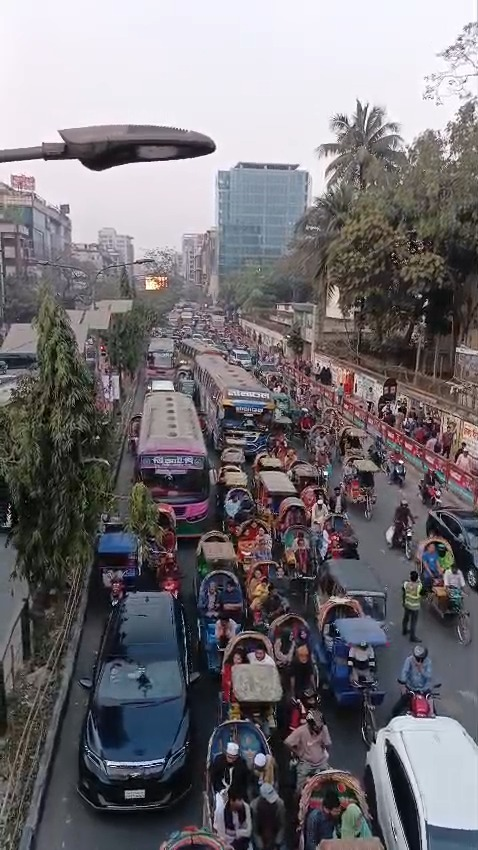Bus: (128, 377, 213, 510)
auto-ricksaw: (214, 519, 385, 850)
cng: (312, 539, 390, 616)
private car: (74, 587, 206, 819), (370, 715, 478, 850)
